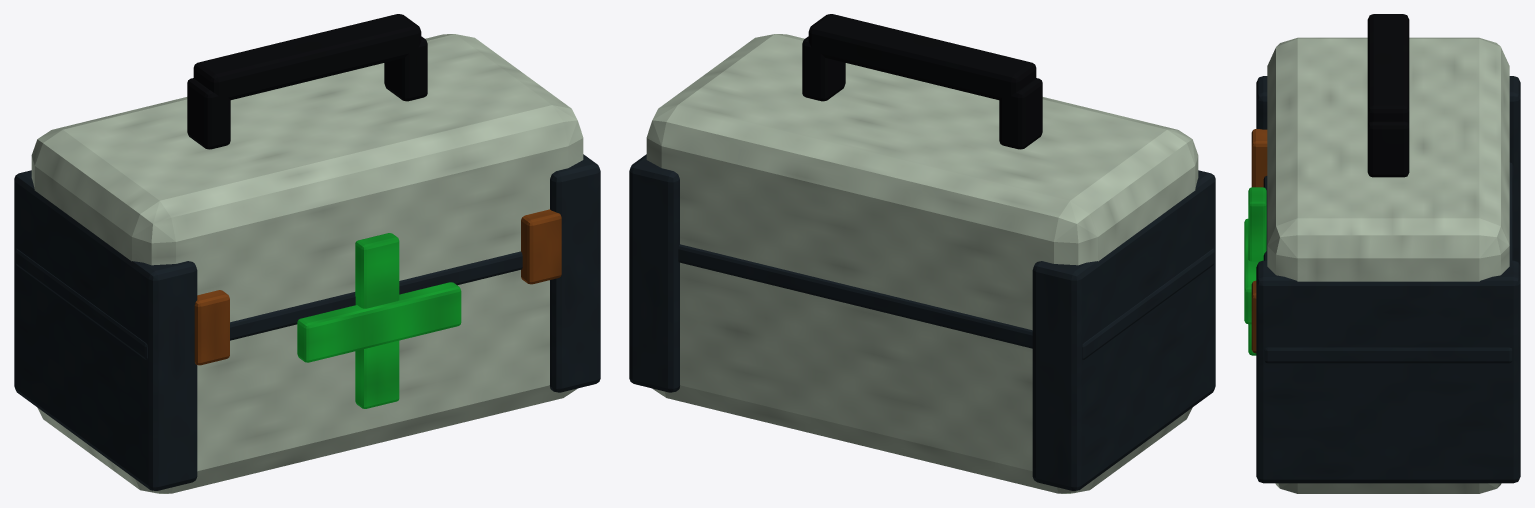
Rendered from medkit_large.glb.
3 renders of one model, left to right at view 1: azimuth 30°, elevation 25°; view 2: azimuth 150°, elevation 25°; view 3: azimuth 270°, elevation 25°, orthographic. The views are drawn at different scales.
Parts seen in each view (by area): view 1: medkit_large; view 2: medkit_large; view 3: medkit_large.
Part boxes in pixels (<box>): medkit_large: <box>14,14,600,493</box>; medkit_large: <box>629,14,1215,493</box>; medkit_large: <box>1244,14,1520,493</box>.
Size of the model in its own units: 0.568 by 0.4375 by 0.3189.
Materials: 5 (5 with a texture image).
